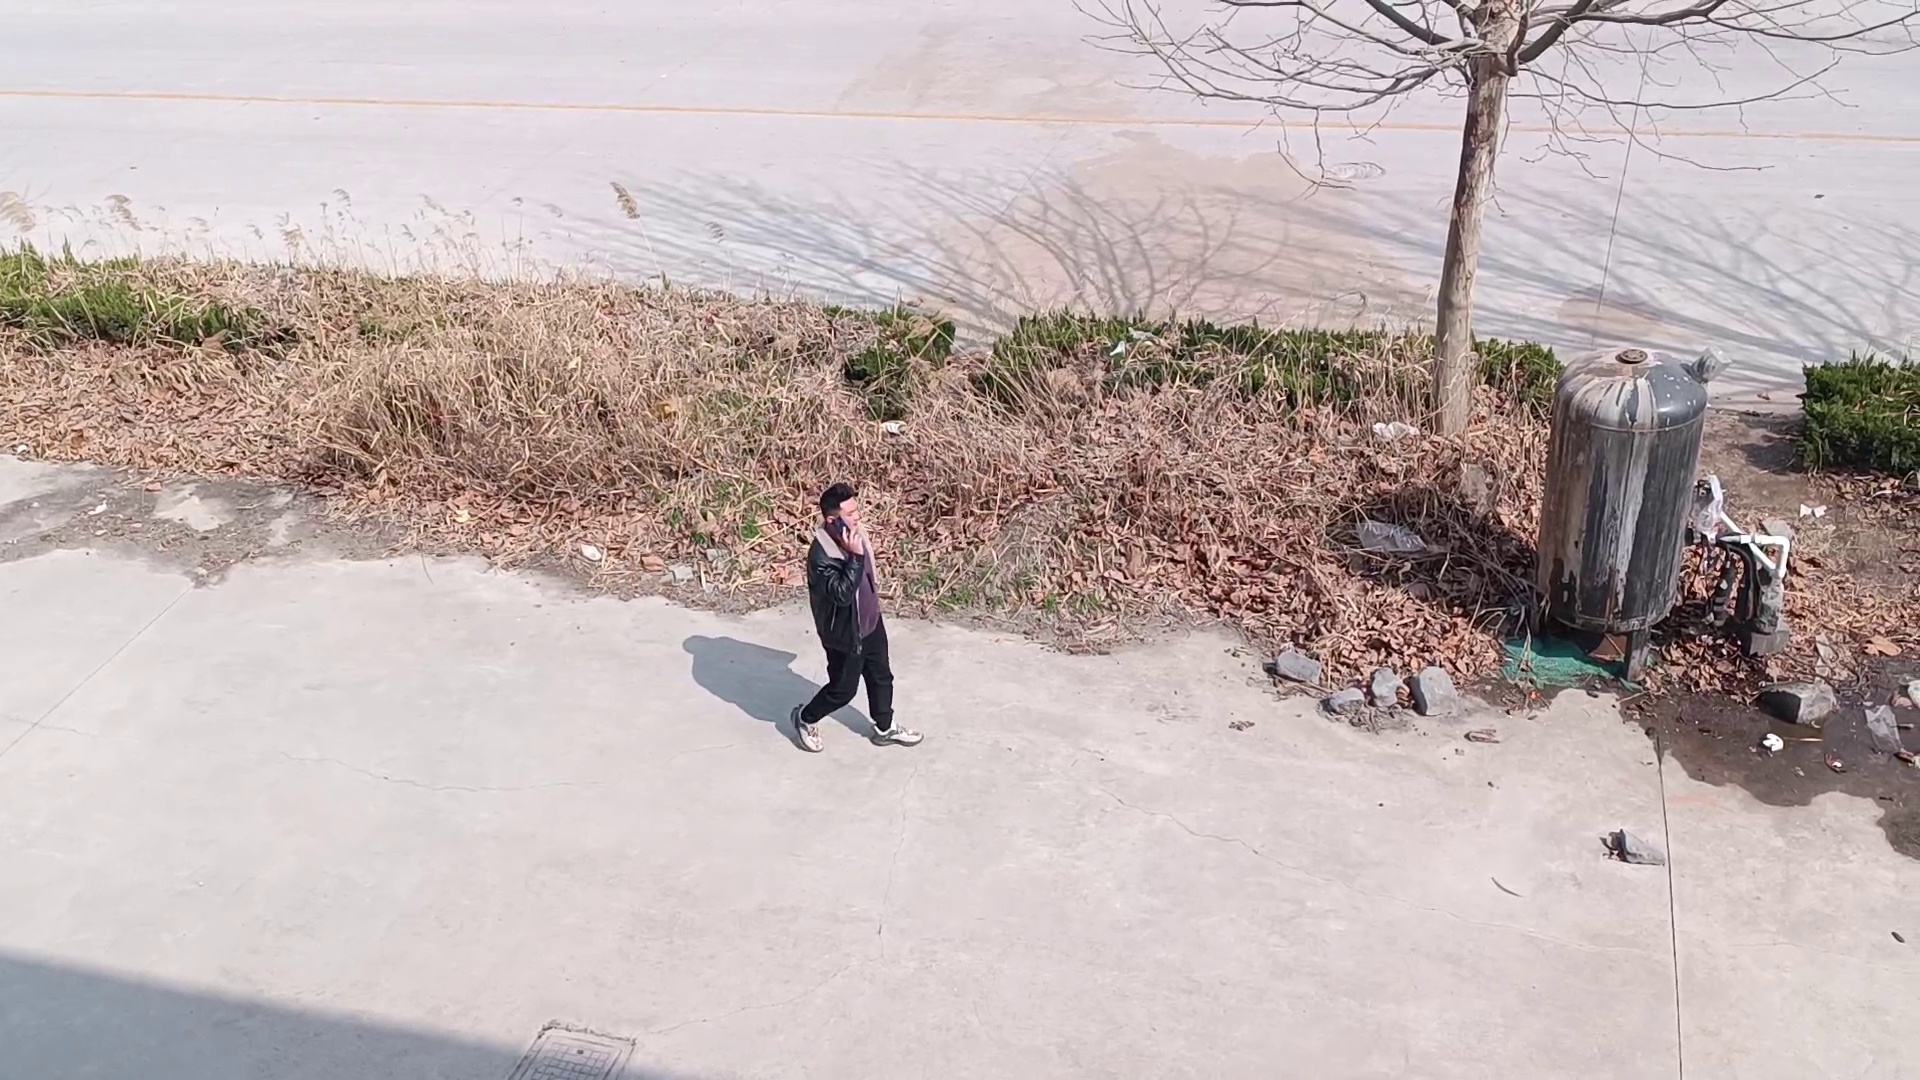phone: (814, 483, 870, 554)
